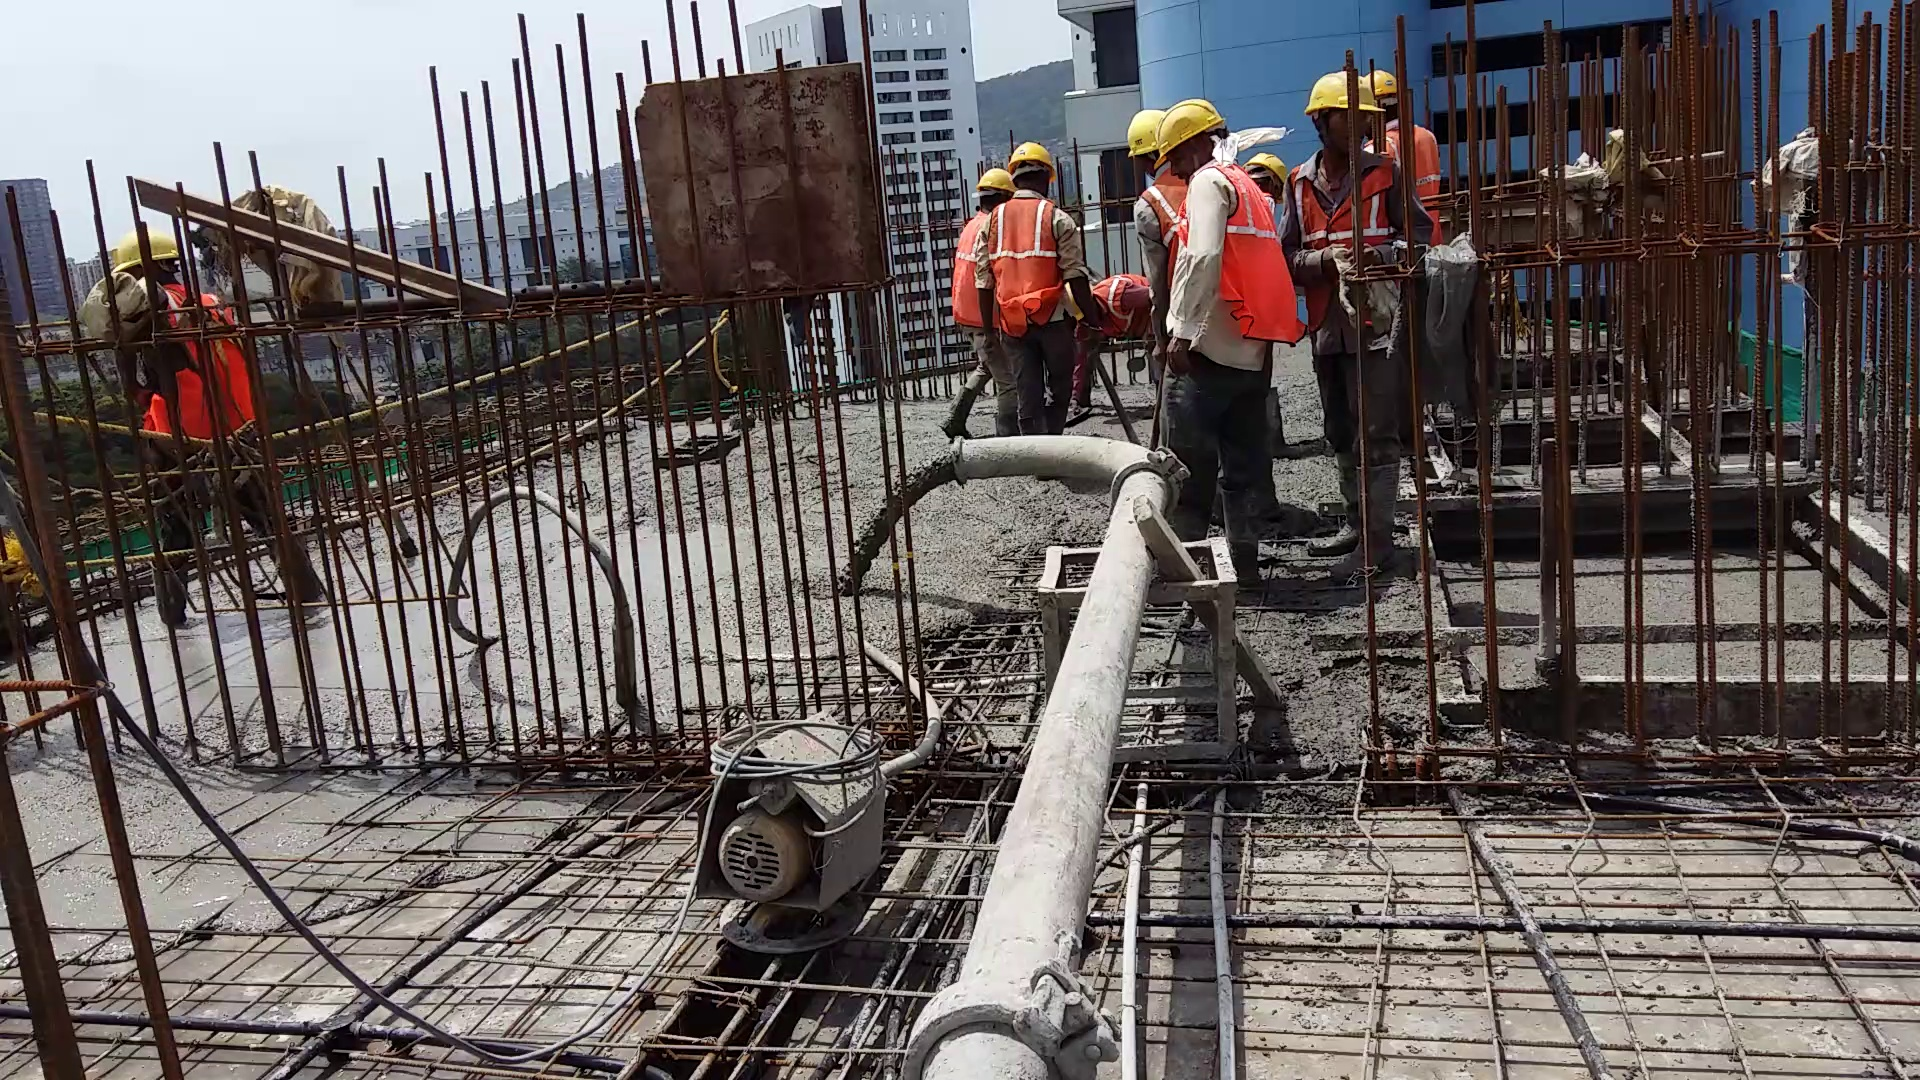SAFE: (1167, 91, 1286, 363), (996, 135, 1073, 335)
